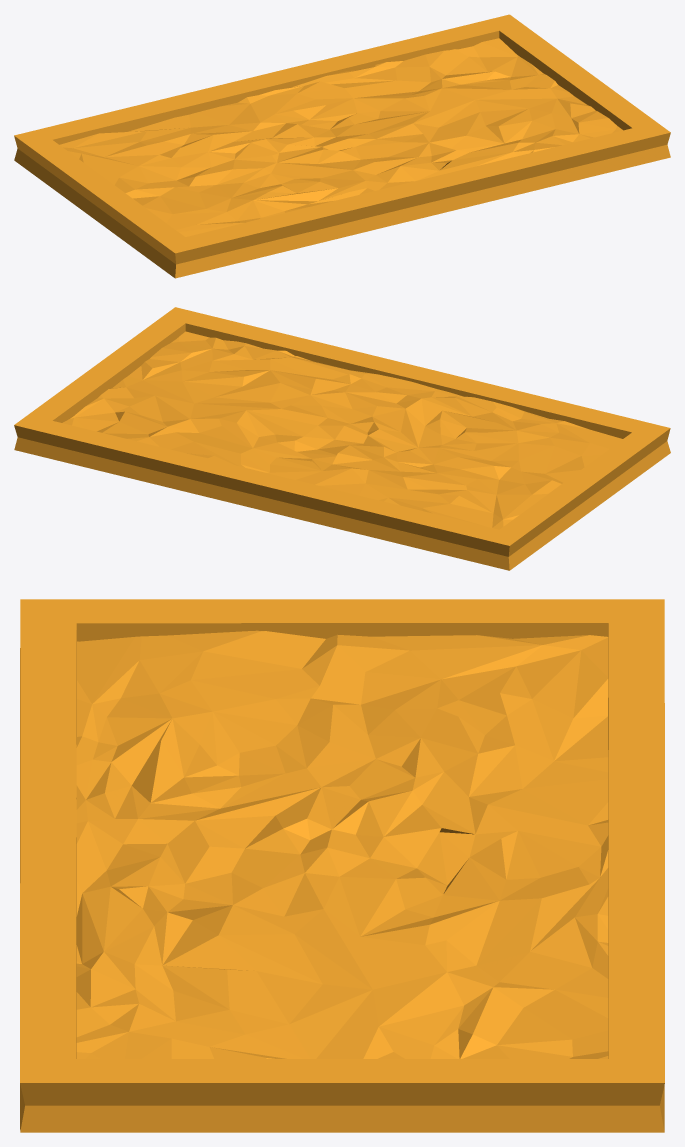
Rendered from SM_Tree_Pot_City_D_2m.fbx.
3 views of the same model, one above another, from view 1: azimuth 30°, elevation 25°; view 2: azimuth 150°, elevation 25°; view 3: azimuth 270°, elevation 25° (orthographic). The views are drawn at different scales.
Parts seen in each view (by area): view 1: SM_Tree_Pot_City_D_2m; view 2: SM_Tree_Pot_City_D_2m; view 3: SM_Tree_Pot_City_D_2m.
Part boxes in pixels (x1,y1,x2,y2): SM_Tree_Pot_City_D_2m: [14, 14, 670, 278]; SM_Tree_Pot_City_D_2m: [14, 307, 670, 570]; SM_Tree_Pot_City_D_2m: [20, 599, 664, 1132].
Size of the model in its own units: 2 by 0.0963 by 1.13.
